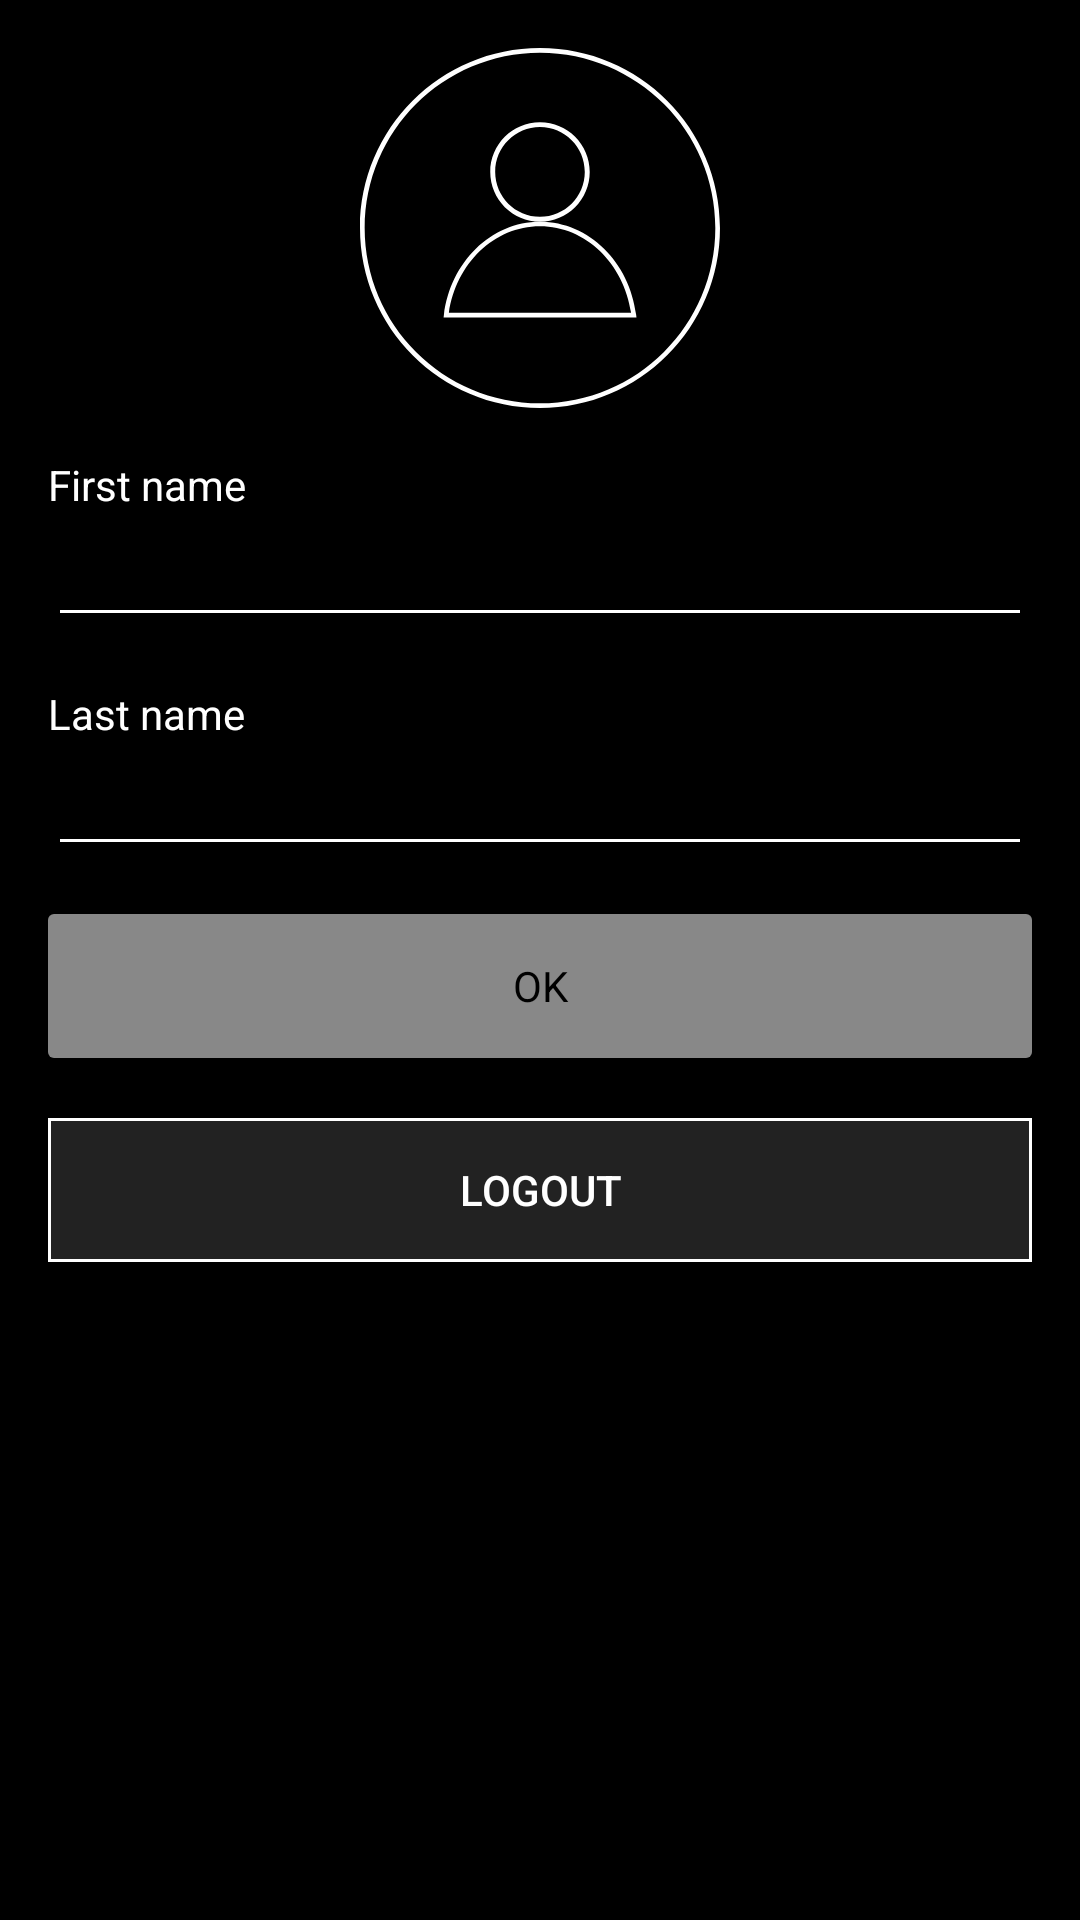

Icons on this 1080 × 1920 Android screen, each with the point to tap as (x,y):
user: (540,228)
